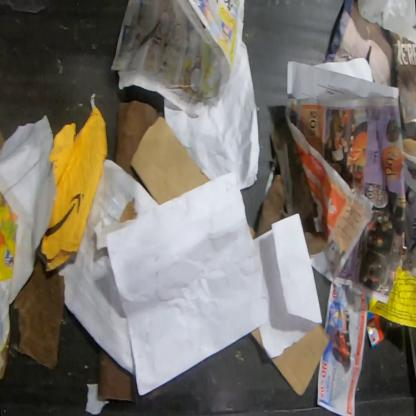cardboard: (37, 104, 108, 271), (268, 119, 328, 257), (129, 114, 211, 205), (324, 0, 397, 89), (12, 255, 65, 371), (269, 324, 332, 397), (114, 98, 164, 188), (248, 172, 291, 240), (97, 344, 135, 405), (366, 312, 404, 349), (119, 198, 137, 223), (249, 326, 264, 353), (402, 137, 415, 159), (0, 128, 4, 152)
soft_plastic: (356, 0, 415, 45)
